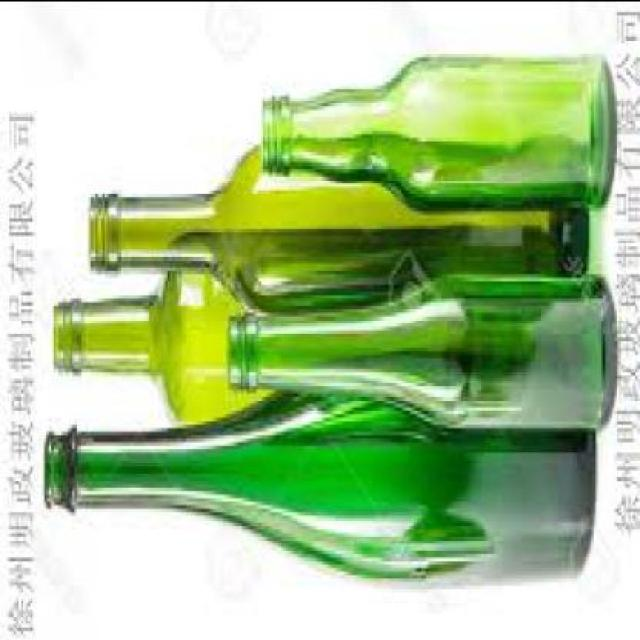glass: (42, 392, 590, 585), (86, 148, 586, 315), (226, 277, 612, 431), (258, 63, 616, 214), (52, 238, 271, 428)
